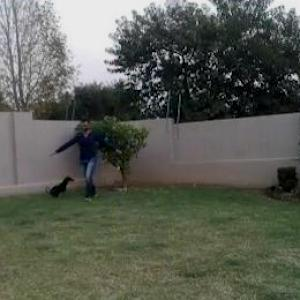land: (62, 103, 142, 210)
